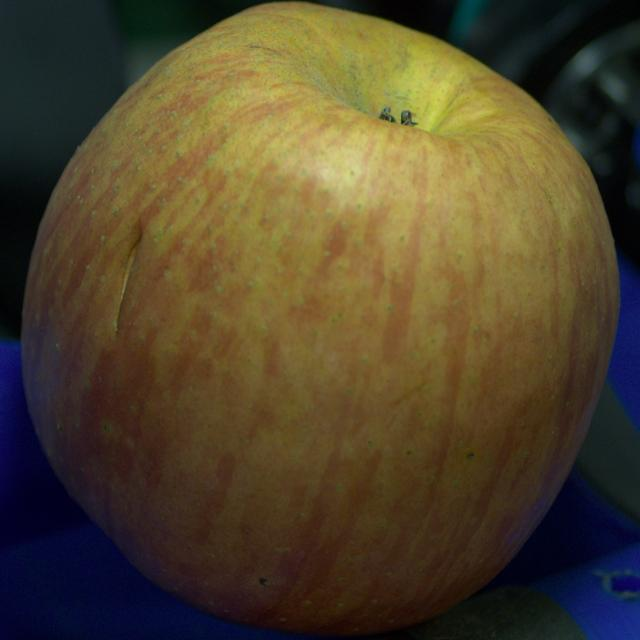apple: (22, 2, 618, 634)
scratch: (114, 229, 141, 332)
